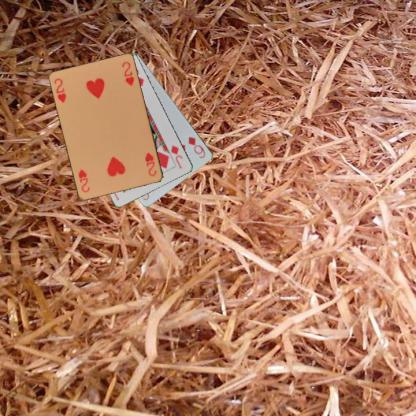2h: (142, 150, 158, 178), (52, 76, 68, 104)
6d: (186, 134, 207, 160)
Jd: (168, 143, 184, 170)
